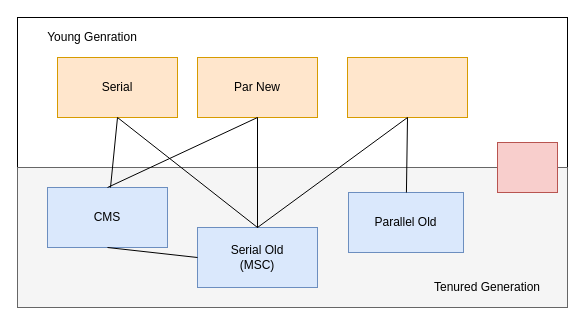
Some shapes in this 585 by 325 pixel diagram are drawn without their labels. Here are the shapes that lost their labels. From the top down, the centre of each, then its label:
point (407, 87): Parallel Scavenge
point (527, 167): G1
